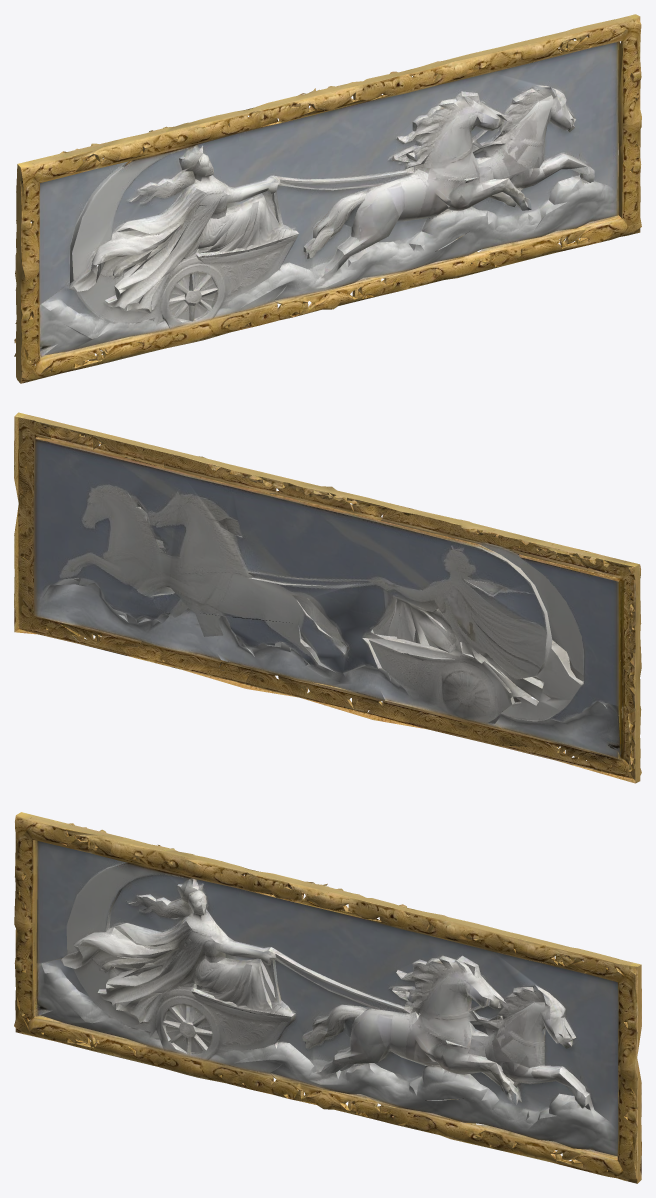
The model's file is P19_chariot_relief_game.glb.
The picture shows the model from 3 angles, top to bottom: view 1: azimuth 30°, elevation 25°; view 2: azimuth 150°, elevation 25°; view 3: azimuth 330°, elevation 25°; orthographic projection.
Visible parts, largest first — view 1: P19_chariot_relief; view 2: P19_chariot_relief; view 3: P19_chariot_relief.
Part boxes in pixels (x1,y1,x2,y2): P19_chariot_relief: (14, 14, 641, 383); P19_chariot_relief: (14, 412, 641, 783); P19_chariot_relief: (14, 812, 641, 1183).
Size of the model in its own units: 2.2 by 0.7334 by 0.1103.
Materials: 1 (1 with a texture image).
